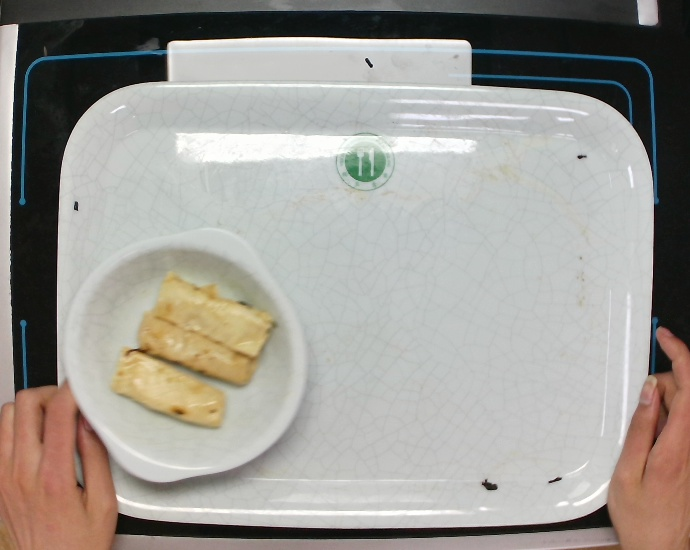JYsf-Shuang_Er_Wan: (61, 217, 312, 492)
